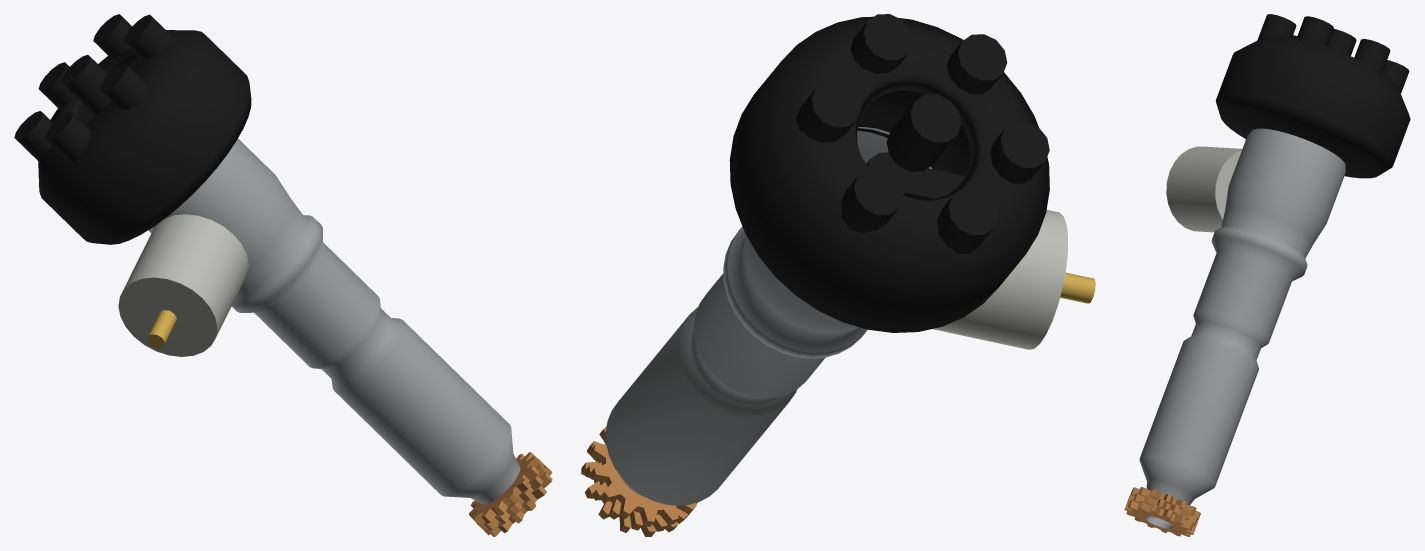
Rendered from distributor.glb.
The picture shows the model from 3 angles, left to right: view 1: azimuth 30°, elevation 25°; view 2: azimuth 150°, elevation 25°; view 3: azimuth 270°, elevation 25°; orthographic projection. The views are drawn at different scales.
Visible parts, largest first — view 1: distributor:castAlu, distributor:blackPlastic, distributor:zincPlate, distributor:bronze, distributor:brass; view 2: distributor:blackPlastic, distributor:castAlu, distributor:zincPlate, distributor:bronze, distributor:brass; view 3: distributor:castAlu, distributor:blackPlastic, distributor:zincPlate, distributor:bronze.
Boxes of the visible parts, bbox=[...] form: distributor:castAlu: bbox=[148, 138, 520, 504]; distributor:blackPlastic: bbox=[14, 14, 251, 244]; distributor:zincPlate: bbox=[118, 214, 248, 356]; distributor:bronze: bbox=[469, 452, 552, 536]; distributor:brass: bbox=[147, 310, 176, 348]; distributor:blackPlastic: bbox=[729, 14, 1049, 332]; distributor:castAlu: bbox=[605, 127, 932, 505]; distributor:zincPlate: bbox=[932, 210, 1067, 349]; distributor:bronze: bbox=[581, 426, 697, 536]; distributor:brass: bbox=[1060, 272, 1095, 303]; distributor:castAlu: bbox=[1139, 128, 1345, 505]; distributor:blackPlastic: bbox=[1215, 14, 1410, 178]; distributor:zincPlate: bbox=[1166, 146, 1242, 232]; distributor:bronze: bbox=[1124, 487, 1200, 536].
Bounding box in the file's own units: 130 × 151 × 93.56.
